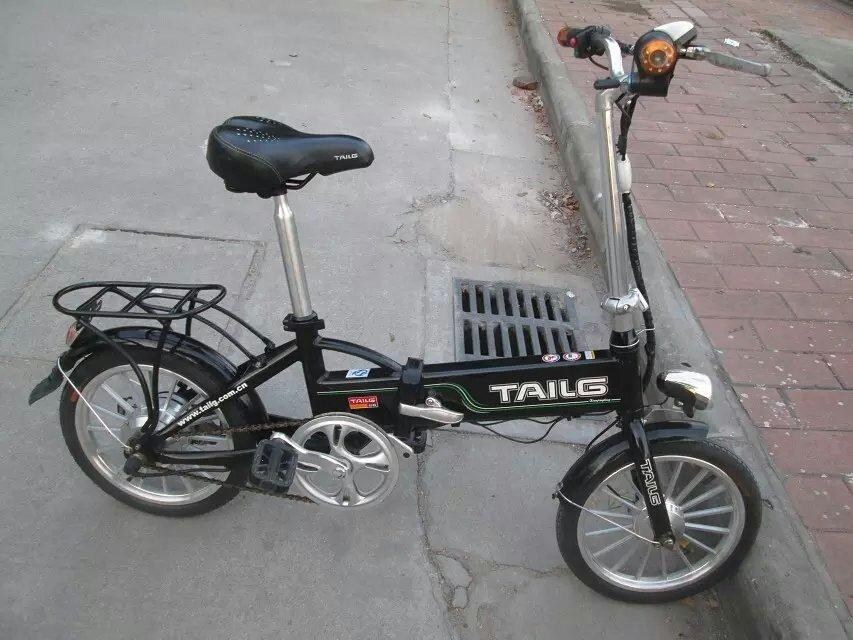电动车: (32, 24, 811, 612)
